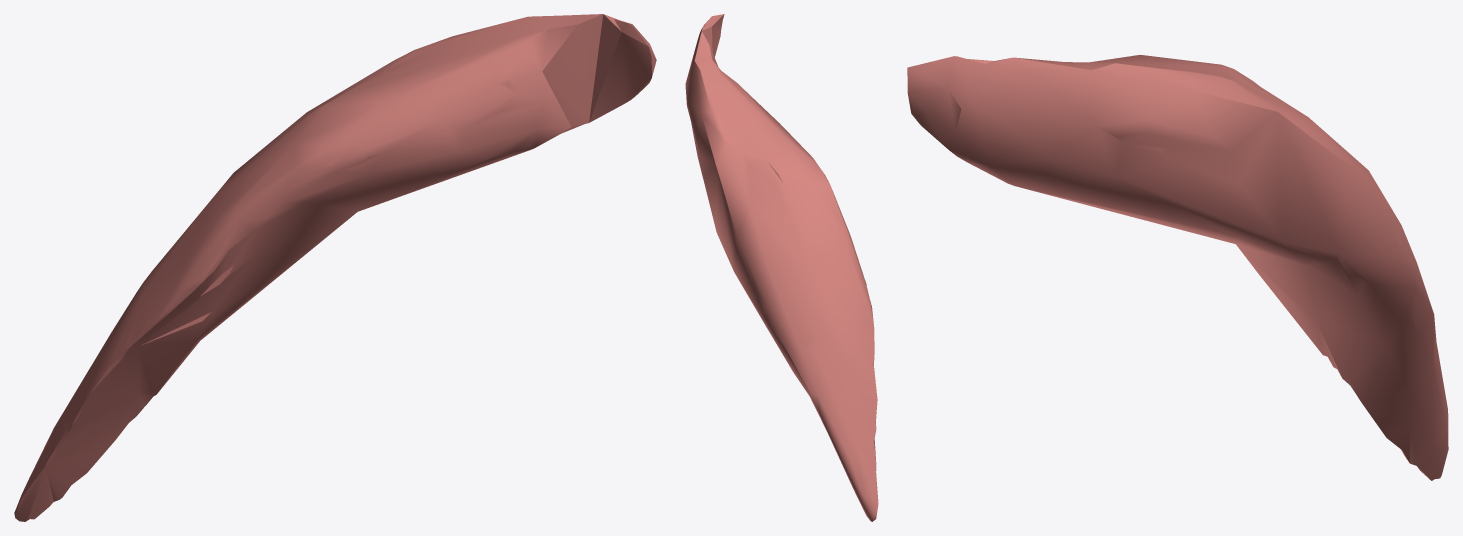
Rendered from fma32554_fj1508m.glb.
3 views of the same model, side by side, from view 1: azimuth 30°, elevation 25°; view 2: azimuth 150°, elevation 25°; view 3: azimuth 270°, elevation 25° (orthographic). The views are drawn at different scales.
Visible parts, largest first — view 1: FMA32554_FJ1508M; view 2: FMA32554_FJ1508M; view 3: FMA32554_FJ1508M.
Part boxes in pixels (x1,y1,x2,y2): FMA32554_FJ1508M: [14, 14, 656, 521]; FMA32554_FJ1508M: [685, 14, 878, 521]; FMA32554_FJ1508M: [907, 54, 1448, 480].
Size of the model in its own units: 0.0851 by 0.0964 by 0.0679.
